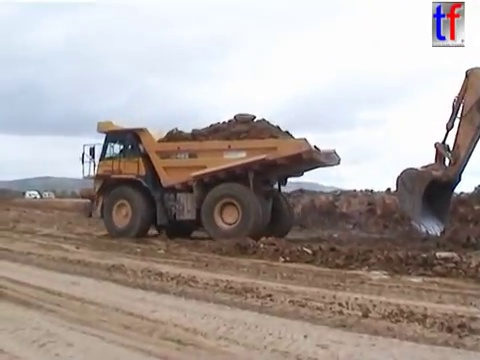excavator: (393, 65, 480, 240)
truck: (77, 119, 344, 246), (79, 183, 168, 219)
